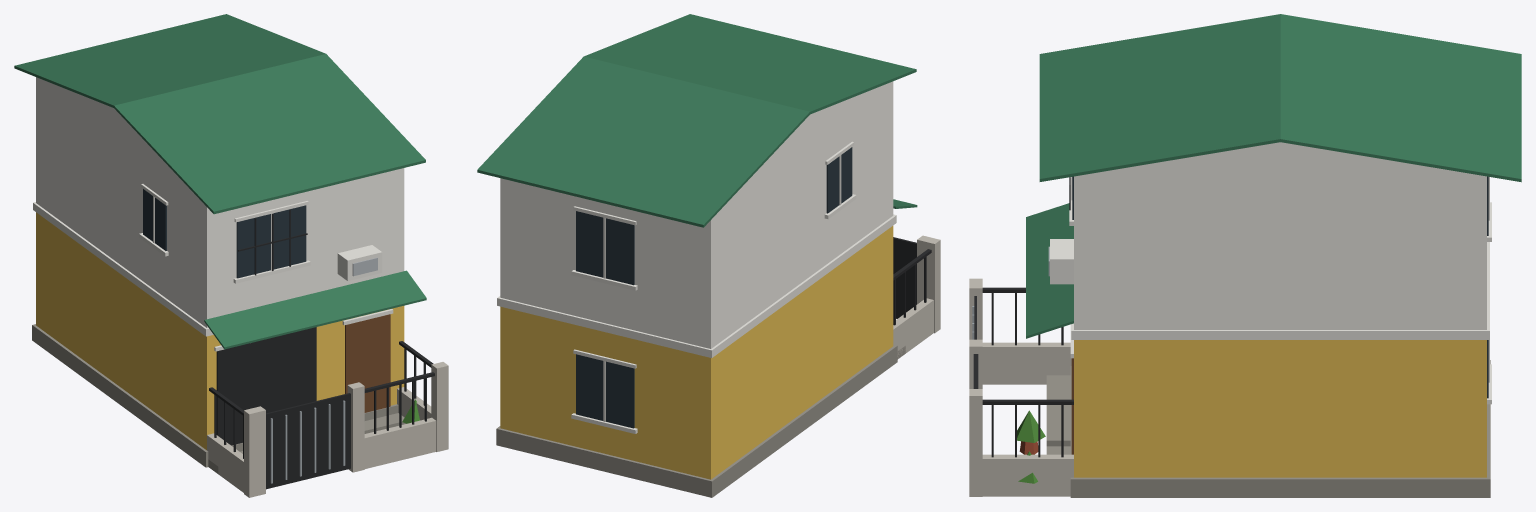
The model's file is BAY_F_TwoStorey_E.glb.
3 views of the same model, side by side, from view 1: azimuth 30°, elevation 25°; view 2: azimuth 150°, elevation 25°; view 3: azimuth 270°, elevation 25° (orthographic). The views are drawn at different scales.
Visible parts, largest first — view 1: BAY_F_TwoStorey_E; view 2: BAY_F_TwoStorey_E; view 3: BAY_F_TwoStorey_E.
Part boxes in pixels (bbox=[...]): BAY_F_TwoStorey_E: bbox=[14, 14, 448, 497]; BAY_F_TwoStorey_E: bbox=[477, 14, 940, 497]; BAY_F_TwoStorey_E: bbox=[969, 14, 1521, 497].
Size of the model in its own units: 4.3 by 5.8 by 8.02.
1 material, 1 textured.
